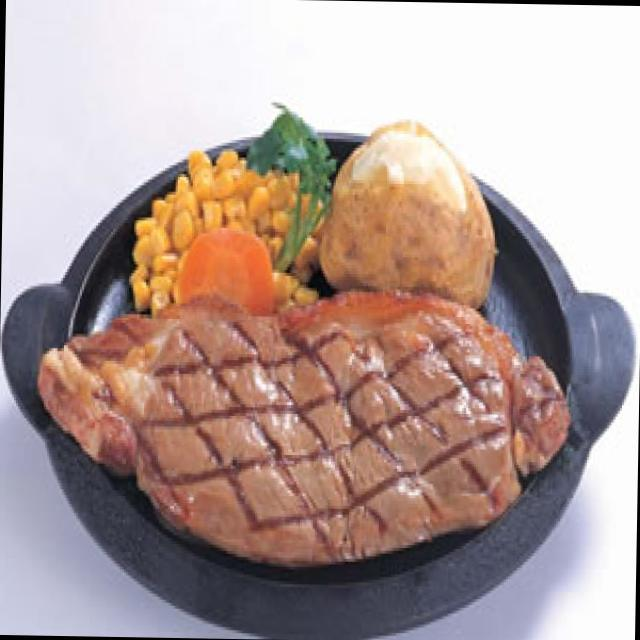Beef Steak: (44, 284, 574, 573)
